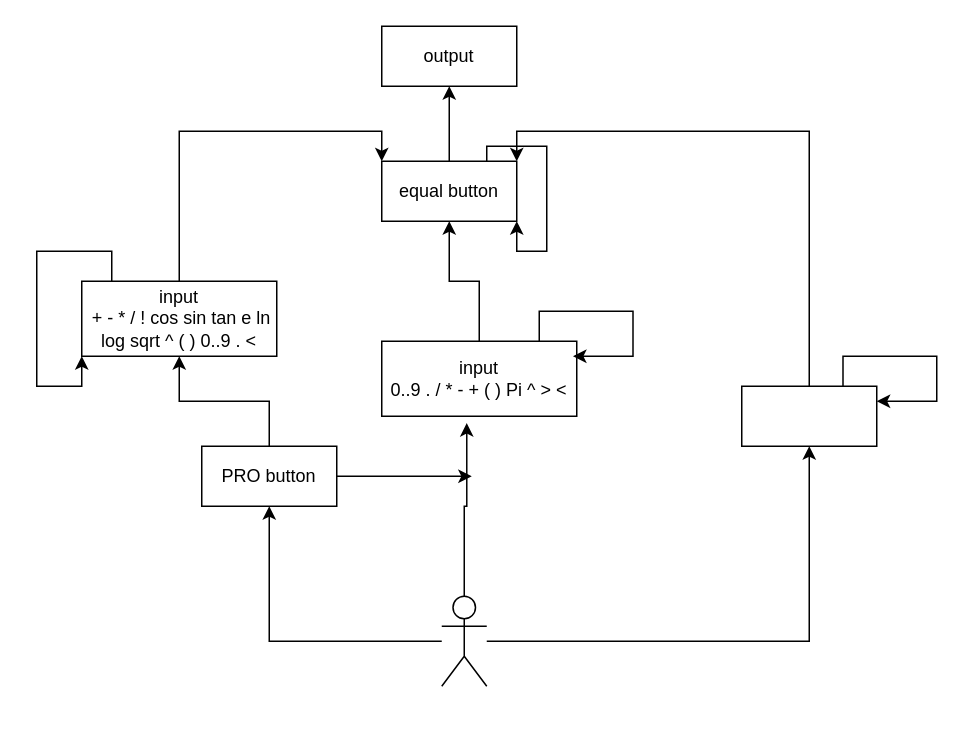
This 975x744 diagram has some shape labels left out. The shapes that lost their labels are listed below. From the top down, each one's centre as x and y in pixels, then its label:
At [808,415]: "clear button".
At [463,640]: "Actor".
